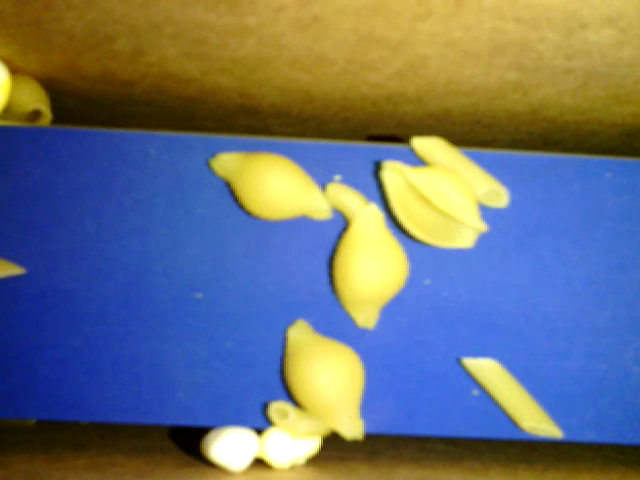elbow: (266, 396, 337, 438), (323, 182, 372, 227)
penne: (460, 358, 565, 438), (408, 136, 511, 210), (1, 257, 28, 280)
shell: (376, 156, 489, 252), (326, 202, 409, 332), (281, 317, 365, 440), (206, 150, 335, 222), (1, 74, 53, 129)
